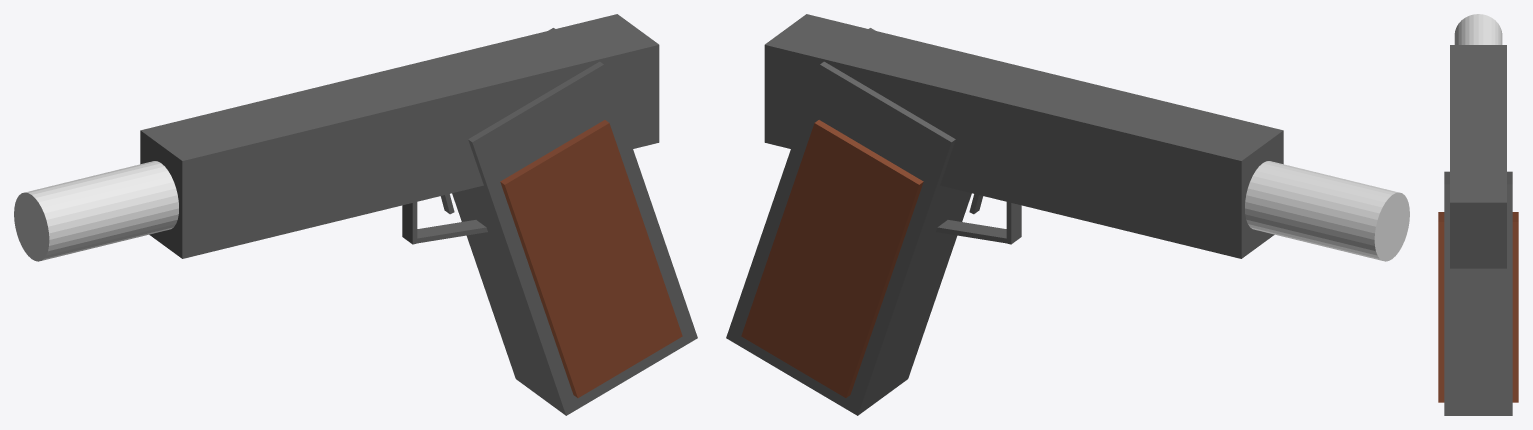
The model's file is BasicPistol.glb.
3 renders of one model, left to right at view 1: azimuth 30°, elevation 25°; view 2: azimuth 150°, elevation 25°; view 3: azimuth 270°, elevation 25°, orthographic. The views are drawn at different scales.
Parts seen in each view (by area): view 1: Cube.005, Cube.001, Cube, Cylinder, Cube.003, Cube.002; view 2: Cube.005, Cube.001, Cube, Cylinder, Cube.003, Cube.002; view 3: Cube.005, Cube, Cube.001, Cylinder.
Part boxes in pixels (x1=…): Cube.005: x1=140, y1=14, x2=659, y2=258; Cube.001: x1=500, y1=120, x2=682, y2=397; Cube: x1=452, y1=28, x2=697, y2=415; Cylinder: x1=14, y1=161, x2=178, y2=261; Cube.003: x1=417, y1=220, x2=487, y2=243; Cube.002: x1=402, y1=202, x2=417, y2=244; Cube.005: x1=764, y1=14, x2=1283, y2=258; Cube.001: x1=741, y1=120, x2=923, y2=397; Cube: x1=726, y1=28, x2=971, y2=415; Cylinder: x1=1245, y1=161, x2=1409, y2=261; Cube.003: x1=936, y1=220, x2=1006, y2=243; Cube.002: x1=1006, y1=202, x2=1021, y2=244; Cube.005: x1=1450, y1=45, x2=1506, y2=268; Cube: x1=1444, y1=171, x2=1512, y2=415; Cube.001: x1=1438, y1=212, x2=1518, y2=402; Cylinder: x1=1454, y1=14, x2=1502, y2=44.
Size of the model in its own units: 0.3634 by 0.1865 by 0.0584.
